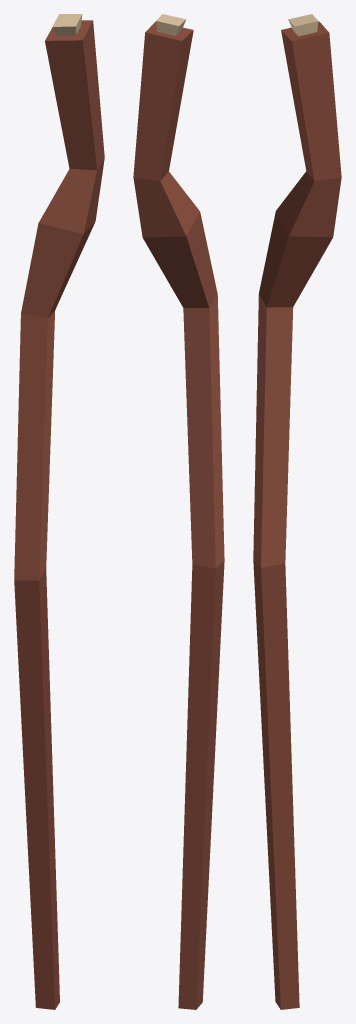
Rendered from staff_2.glb.
3 renders of one model, left to right at view 1: azimuth 30°, elevation 25°; view 2: azimuth 210°, elevation 25°; view 3: azimuth 330°, elevation 25°, orthographic.
Parts seen in each view (by area): view 1: staff_2.001; view 2: staff_2.001; view 3: staff_2.001.
Part boxes in pixels (box(x1,y1,x2,y2)): staff_2.001: box(14, 14, 104, 1009); staff_2.001: box(133, 14, 224, 1009); staff_2.001: box(253, 14, 341, 1009).
Bounding box in the file's own units: 0.0947 × 1 × 0.0584.
1 material, 1 textured.
